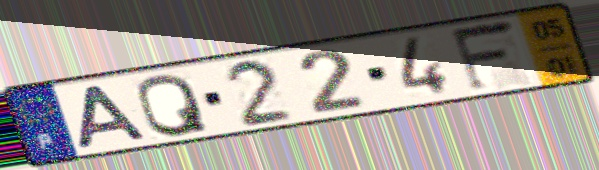2: (225, 56, 297, 129), (296, 47, 371, 117)
4: (399, 33, 452, 98)
A: (75, 82, 152, 152)
F: (446, 16, 521, 95)
Q: (134, 71, 213, 139)
